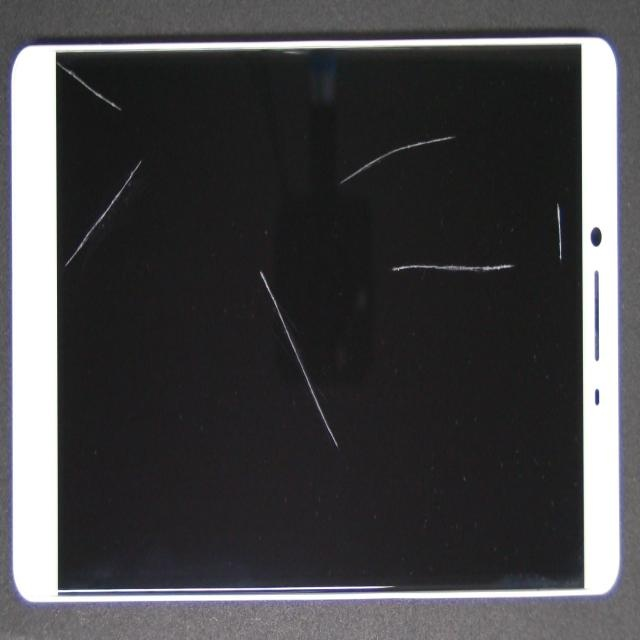scratch: (346, 106, 640, 360), (147, 93, 388, 385), (121, 12, 183, 253)
